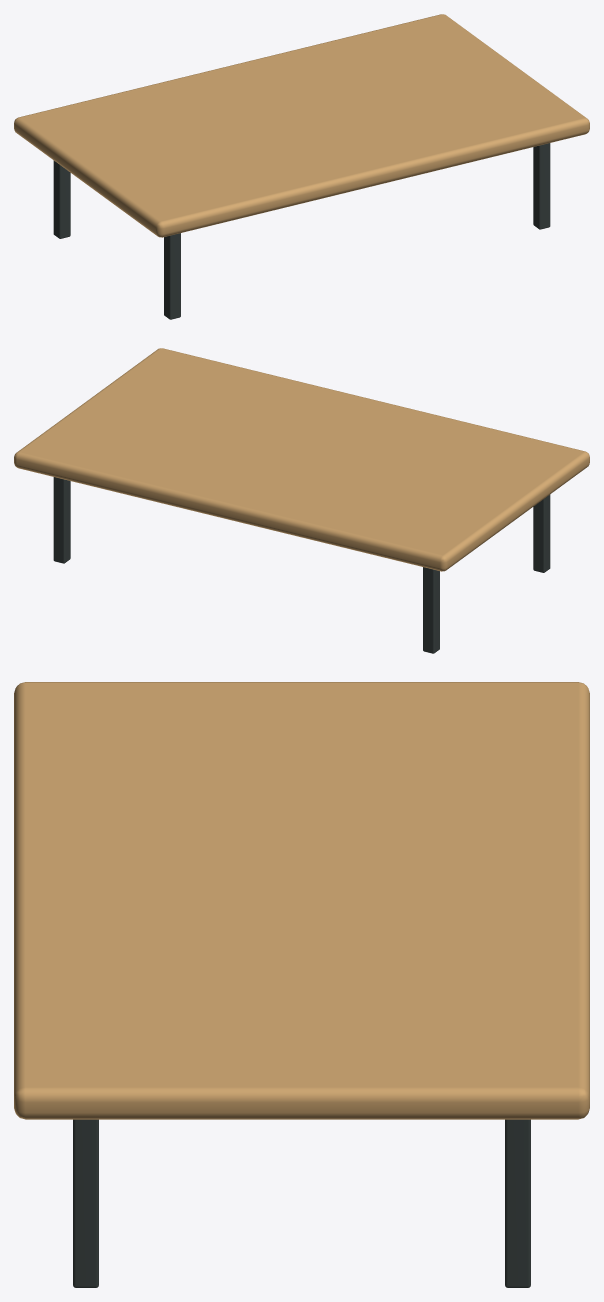
File: SM_EG_StaffTable_d621301158.fbx
The picture shows the model from 3 angles, top to bottom: view 1: azimuth 30°, elevation 25°; view 2: azimuth 150°, elevation 25°; view 3: azimuth 270°, elevation 25°; orthographic projection. The views are drawn at different scales.
Visible parts, largest first — view 1: SM_EG_StaffTable_d621301158; view 2: SM_EG_StaffTable_d621301158; view 3: SM_EG_StaffTable_d621301158.
Boxes of the visible parts, bbox=[...] form: SM_EG_StaffTable_d621301158: bbox=[14, 14, 589, 319]; SM_EG_StaffTable_d621301158: bbox=[14, 348, 589, 653]; SM_EG_StaffTable_d621301158: bbox=[14, 682, 589, 1287].
Size of what is drawn, in the model's own units: 340 by 200 by 85.
